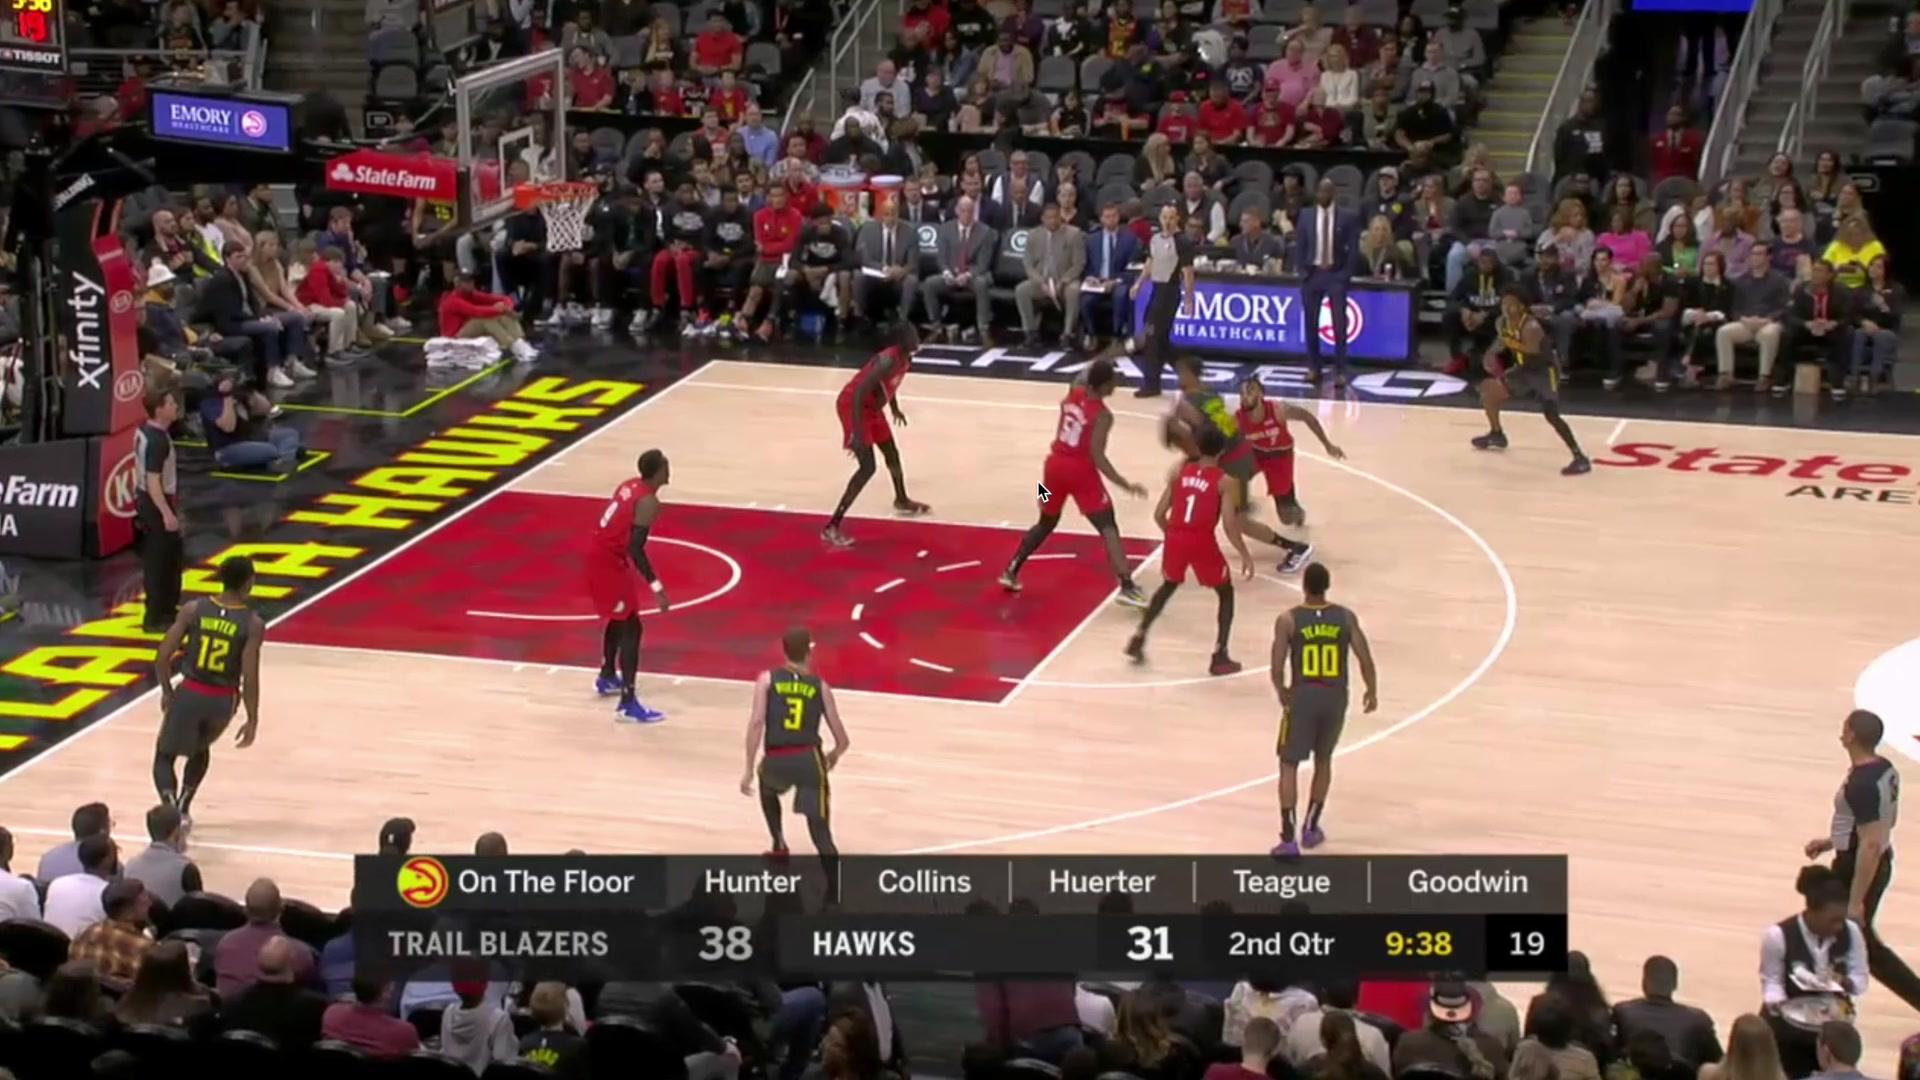no_foul: (1159, 352, 1313, 551)
